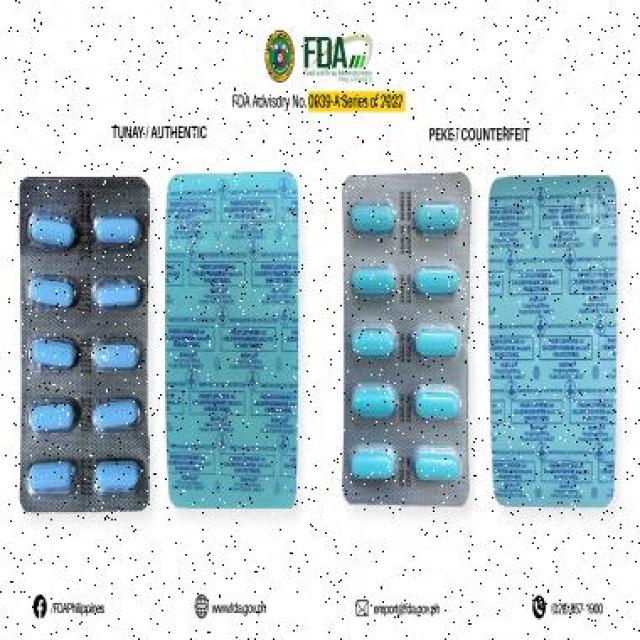Bioflu_Strip: (326, 162, 481, 520), (10, 158, 161, 522)
